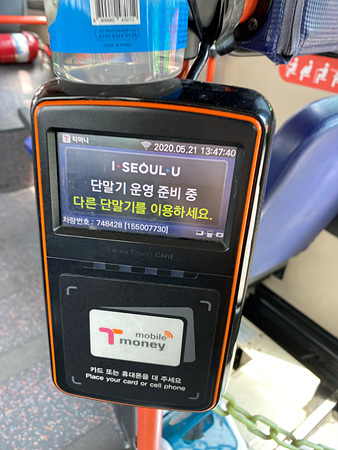terminal: (31, 75, 255, 406)
